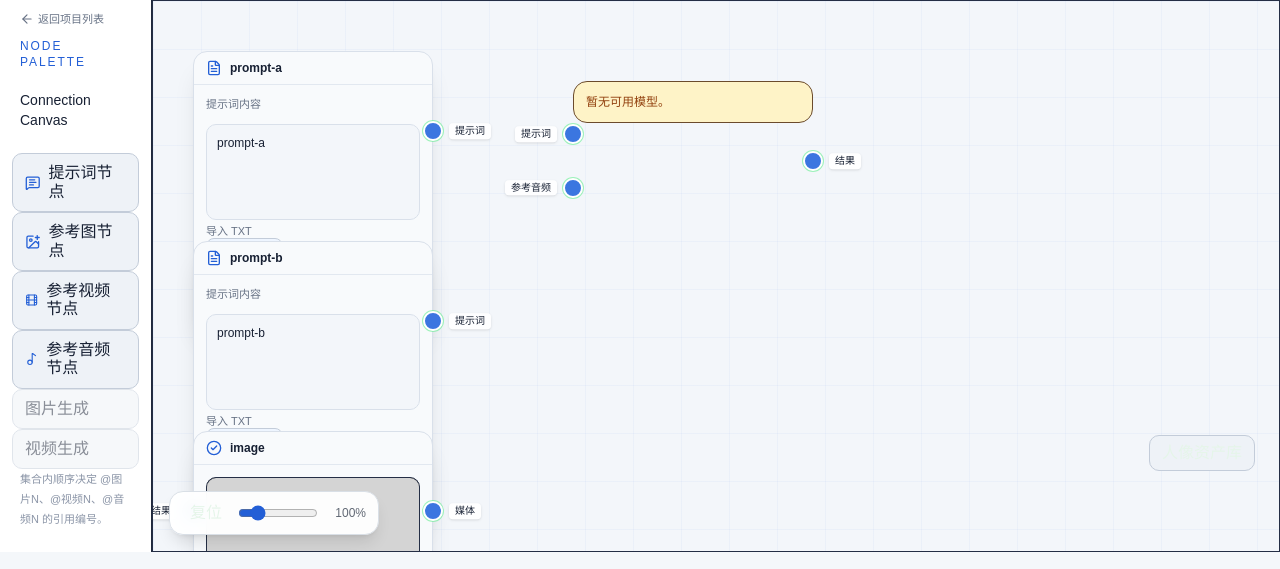
Test case: canvas named-port interactions › announces the incompatible rejection while keeping a valid source available for retry
The width and height of the screenshot is (1280, 569).
Click the button with aria-label "image：媒体输出端口".
click(433, 511)  # box [423, 501, 443, 521]
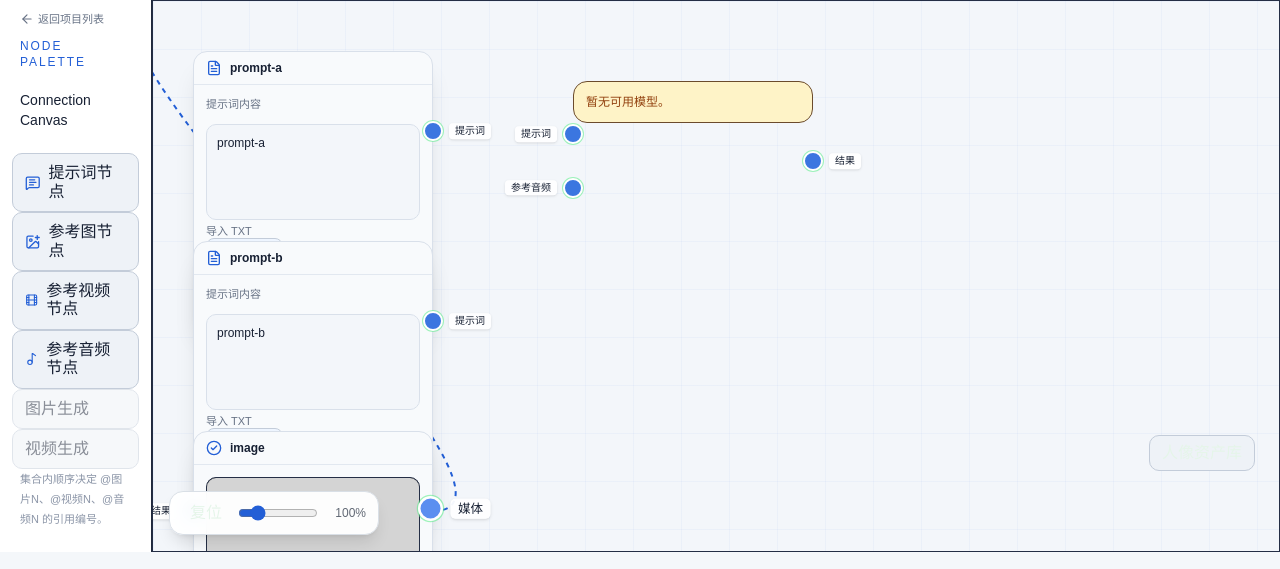
Click the button with aria-label "model：参考音频输入端口".
click(573, 188)  # box [563, 178, 583, 198]
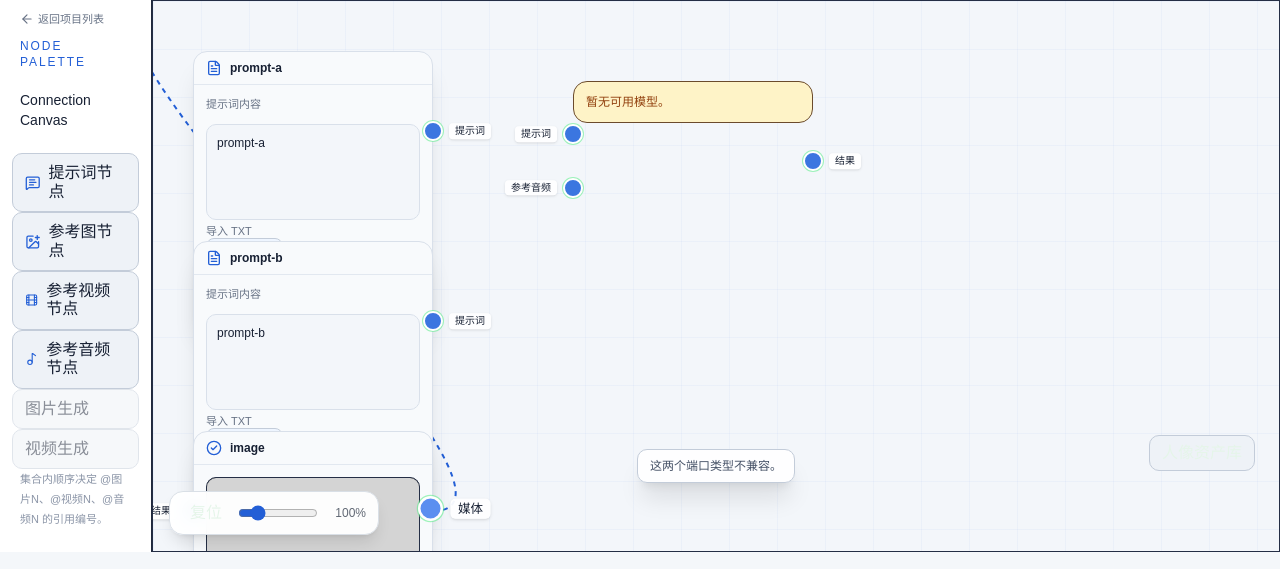
Expected: the message with test id "connection-status" reads "这两个端口类型不兼容。", [650, 459, 782, 473]
